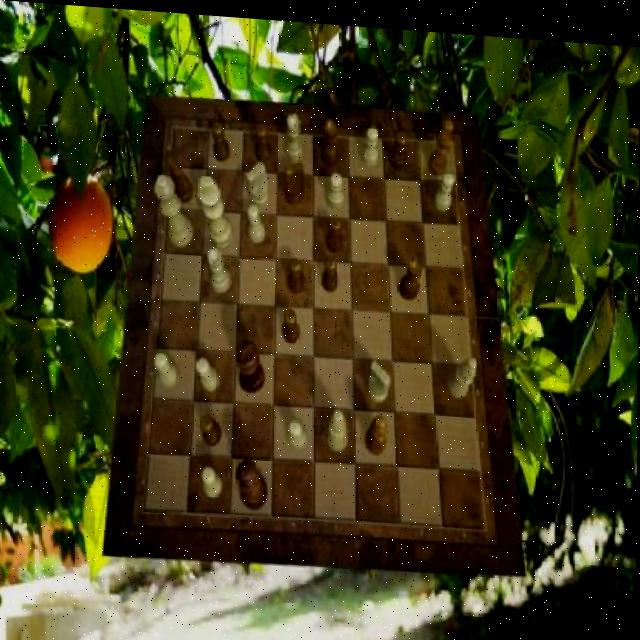bishop: (428, 111, 453, 170), (366, 409, 387, 450)
black-bishop: (235, 334, 264, 390)
black-king: (166, 153, 193, 200), (283, 157, 304, 202)
black-knight: (212, 118, 230, 159), (200, 412, 222, 445), (389, 126, 407, 165), (321, 250, 339, 288), (287, 252, 305, 289), (255, 119, 271, 160), (326, 210, 343, 248), (282, 304, 300, 339)
black-pawn: (235, 454, 268, 508)
black-queen: (399, 249, 423, 295), (321, 114, 339, 164)
black-rook: (446, 347, 477, 392), (326, 404, 349, 448)
white-bishop: (198, 170, 234, 246)
white-king: (245, 157, 268, 205), (367, 354, 391, 398)
white-knight: (155, 351, 180, 387), (196, 355, 220, 390), (433, 165, 453, 206), (361, 121, 378, 162), (247, 201, 265, 239), (202, 462, 222, 495), (326, 168, 344, 204), (289, 416, 307, 444)
white-pawn: (154, 170, 195, 245)
white-queen: (208, 243, 231, 290), (286, 109, 304, 157)
